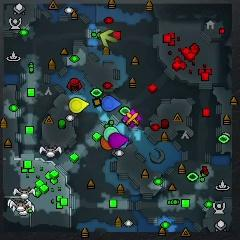Other: (123, 110, 142, 128)
p1: (100, 96, 120, 110)
p2: (104, 126, 118, 139)
p3: (109, 132, 128, 146)
p4: (69, 97, 89, 113)
p5: (100, 136, 112, 150)
x2: (100, 29, 115, 45)
